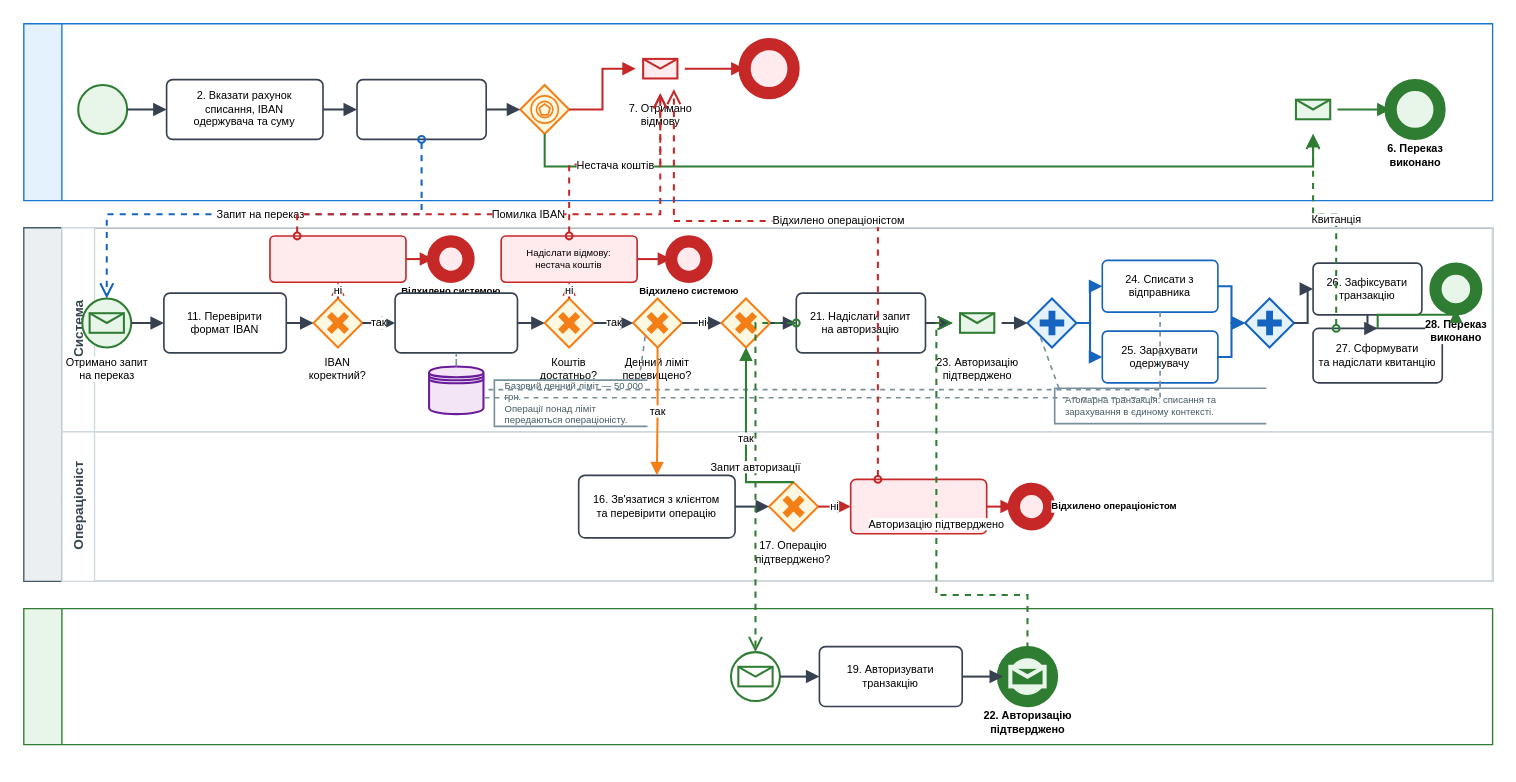
This 1516x782 diagram has some shape labels left out. The box of each missing label's shape, as (x1, y1, x2, y2) in pixels:
13. Перевірити баланс і ліміти: (394, 292, 518, 353)
3. Підтвердити переказ: (356, 78, 486, 140)
5. Отримано квитанцію: (1287, 83, 1338, 134)
8. Переказ відхилено: (742, 41, 795, 95)
Банк: (22, 226, 1493, 581)
Виникла потреба переказати кошти: (77, 83, 128, 134)
Клієнт: (22, 22, 1493, 201)
Надіслати відмову: помилка IBAN: (268, 234, 406, 282)
Надіслати сповіщення про відхилення: (849, 478, 987, 534)
Отримано запит на авторизацію: (729, 650, 780, 701)
Очікування результату: (519, 83, 570, 134)
Процесинговий центр: (22, 607, 1493, 745)
Сховище «Рахунки»: (427, 365, 484, 415)
